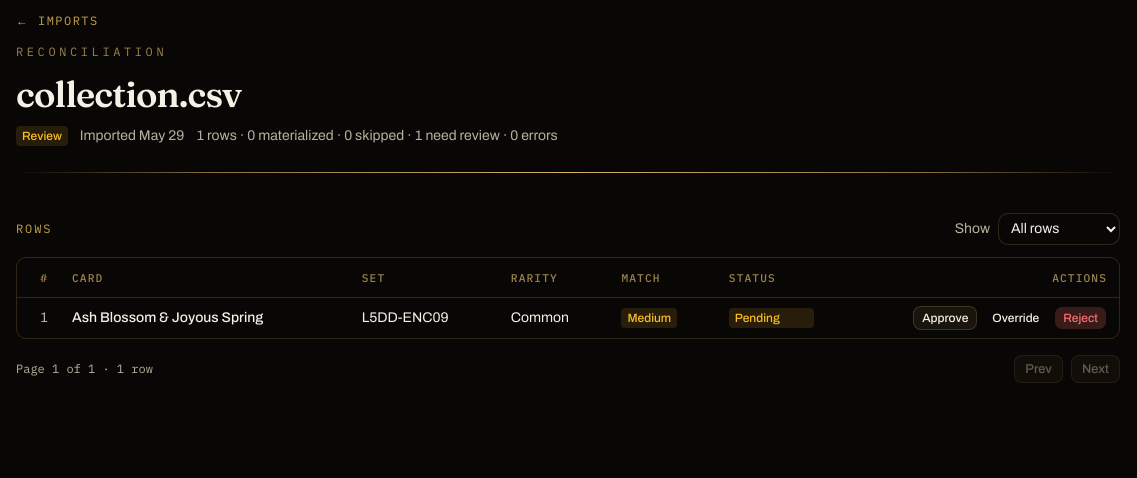
Test case: ImportBatchDetail › surfaces the 409 changed-duplicate conflict distinctly (row stays pending)
Expected: the text "Ash Blossom & Joyous Spring" is shown, x1=72 y1=308 x2=263 y2=328
Step 1. Click the button "Approve" → click(945, 318), box x1=913 y1=306 x2=977 y2=330
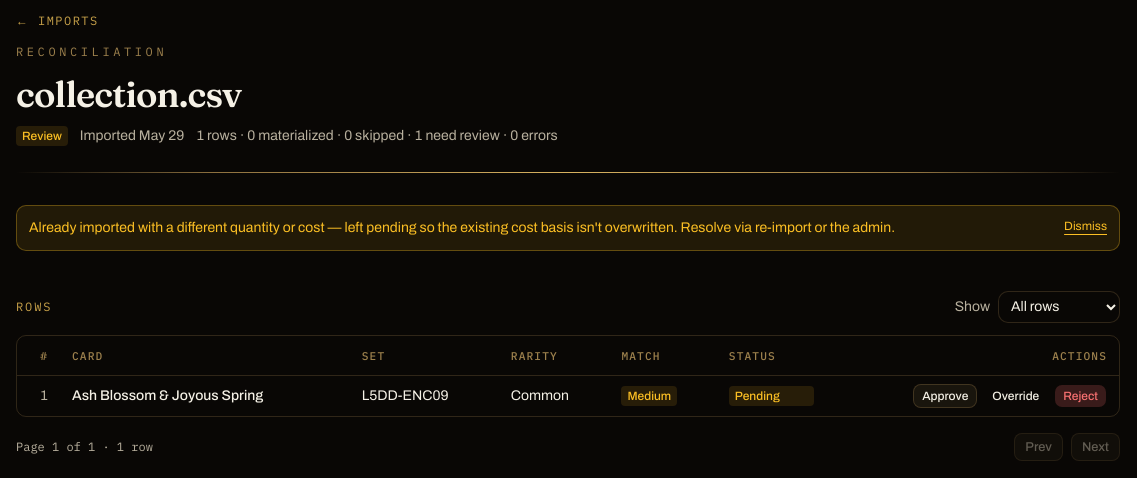
Result: the text "cost basis isn't overwritten" is shown at x1=29 y1=220 x2=895 y2=235
